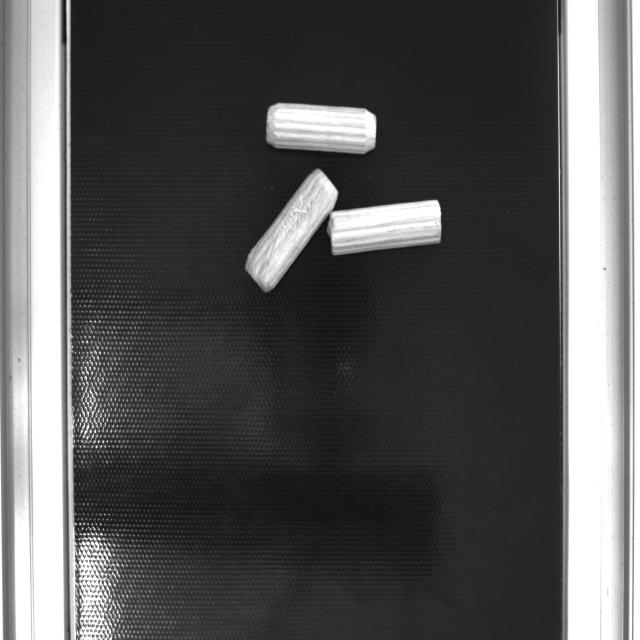Chot go: (242, 167, 344, 298), (263, 99, 379, 154), (332, 200, 444, 255)
